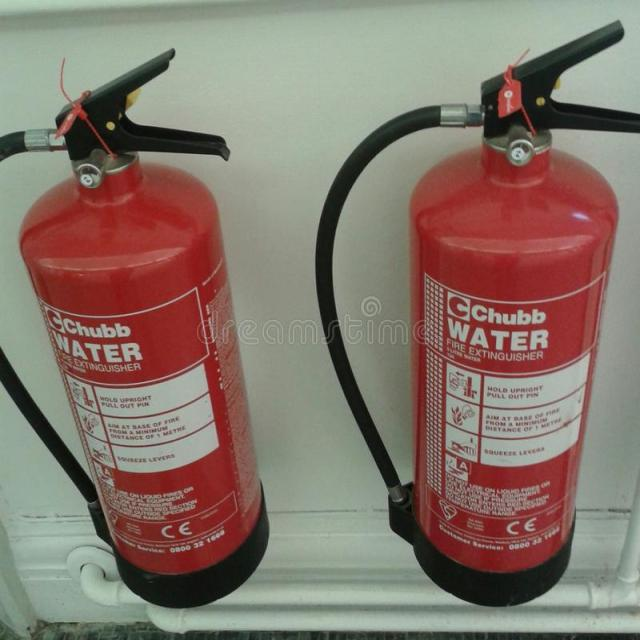fire_extinguisher: (311, 14, 639, 614), (0, 41, 275, 613)
